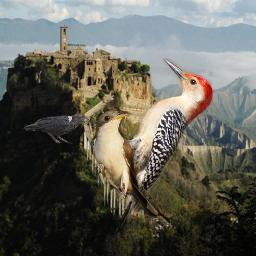Crow: (23, 113, 90, 144)
Cuckoo: (90, 109, 173, 229)
Woodpecker: (100, 58, 216, 231)
